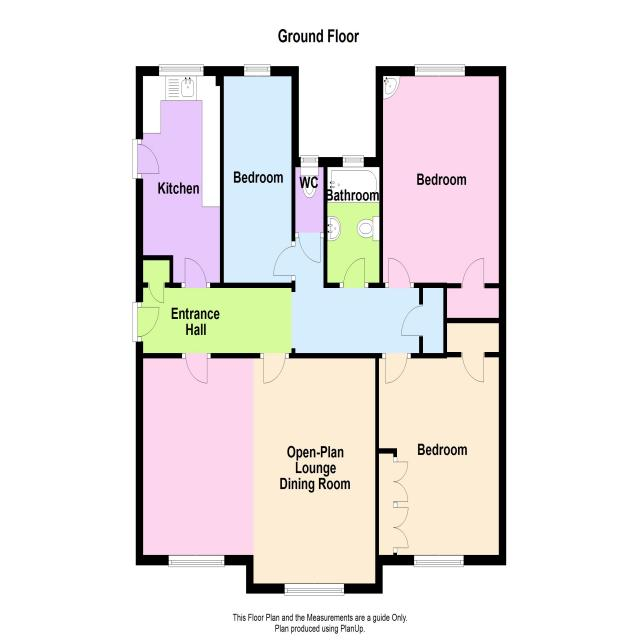DOOR: (132, 301, 163, 343), (132, 138, 161, 179), (382, 352, 411, 385), (182, 353, 211, 386), (181, 255, 210, 288), (260, 353, 289, 385), (295, 233, 324, 265), (385, 256, 414, 288), (272, 241, 295, 280), (340, 256, 368, 288), (460, 256, 485, 288)
ROOM: (136, 341, 380, 594), (374, 317, 506, 567), (375, 65, 506, 289), (132, 64, 225, 287), (215, 65, 300, 289)
WINDOW: (165, 551, 228, 570), (282, 581, 345, 597), (155, 60, 206, 79), (413, 61, 467, 78), (413, 553, 465, 568), (241, 61, 273, 79), (340, 152, 366, 170)
